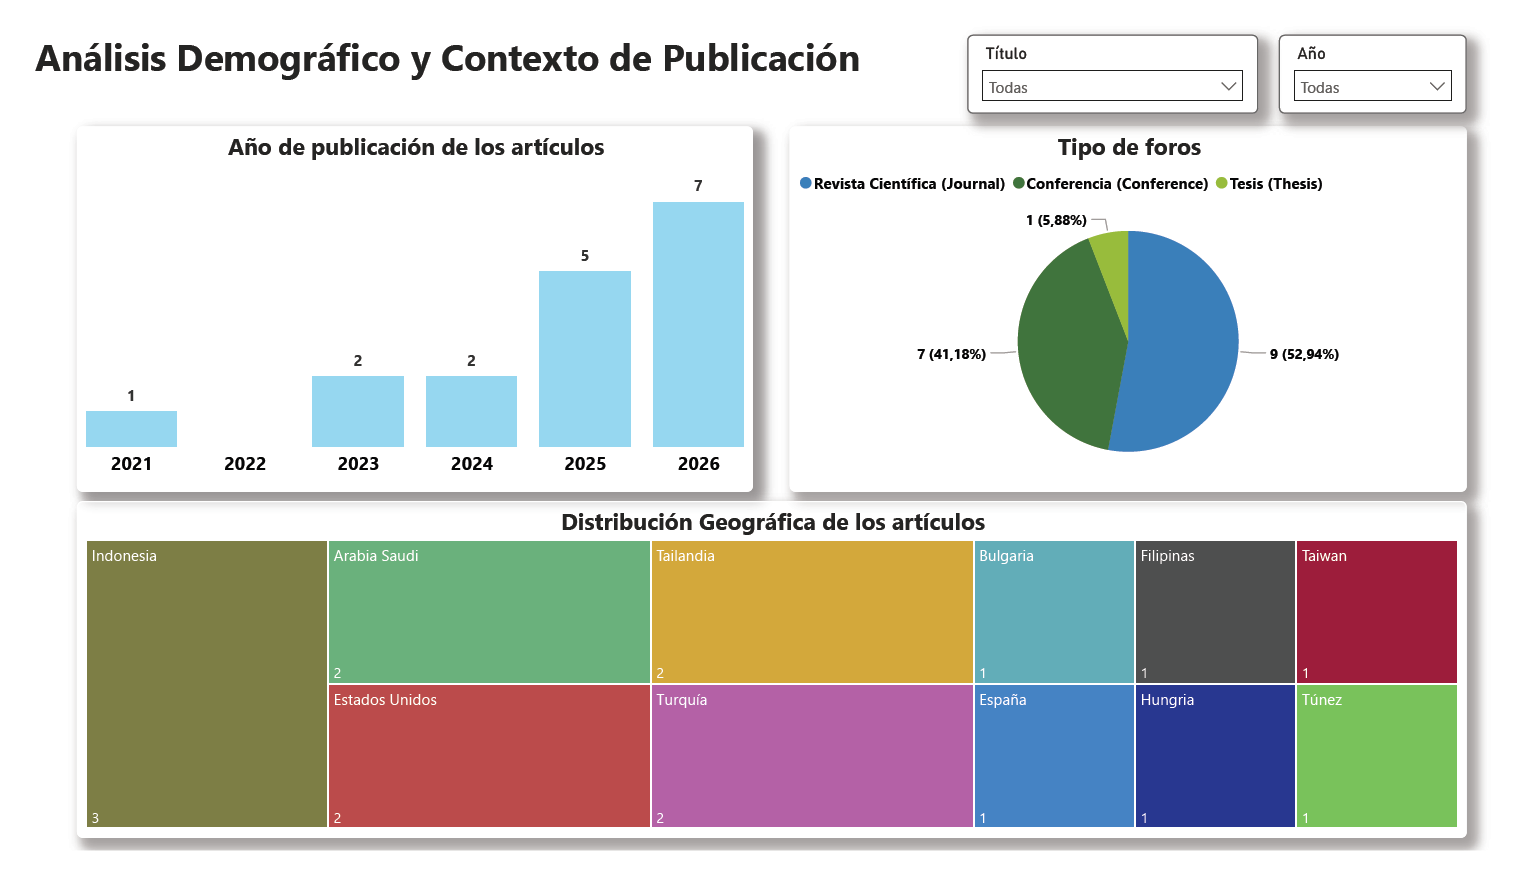

What the dashboard file says about the page in this screenshot:
{"tool":"powerbi","page":{"name":"RQ1","canvas":[1280,720],"ordinal":0},"visuals":[{"type":"columnChart","title":"Año de publicación de los artículos","fields":{"Category":["Hoja1.Año"],"Y":["Count(Hoja1.Título)"]},"box":[44,88,590,319],"z":0},{"type":"pieChart","title":"Tipo de foros","fields":{"Y":["CountNonNull(Hoja1.Tipo de Participantes)"],"Category":["Hoja1.Tipo de Foro"]},"box":[666,88,591,319],"z":1000},{"type":"treemap","title":"Distribución Geográfica de los artículos","fields":{"Group":["Hoja1.Region Geografica"],"Values":["CountNonNull(Hoja1.Título)"]},"box":[44,415,1213,294],"z":2000},{"type":"textbox","box":[0,0,735.4,67.1],"z":3000},{"type":"slicer","fields":{"Values":["Hoja1.Año"]},"box":[1093,8,164,69],"z":4000},{"type":"slicer","fields":{"Values":["Hoja1.Título"]},"box":[820.7,8.2,253.9,68.9],"z":5000}]}

Visuals, with their boxes in screenshot pixels (x1, y1, x2, y2), scaled from the page's 1280x720 canvas onto the 1521x877 screenshot:
"Año de publicación de los artículos" columnChart: select_region(52, 107, 753, 496)
"Tipo de foros" pieChart: select_region(791, 107, 1494, 496)
"Distribución Geográfica de los artículos" treemap: select_region(52, 505, 1494, 864)
textbox: select_region(0, 0, 874, 82)
slicer - Hoja1.Año: select_region(1299, 10, 1494, 94)
slicer - Hoja1.Título: select_region(975, 10, 1277, 94)
